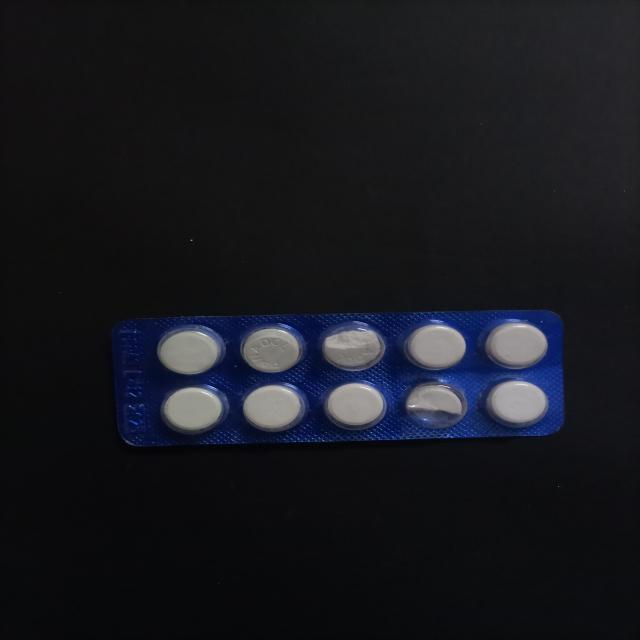defect: (316, 320, 388, 372), (400, 378, 470, 430)
